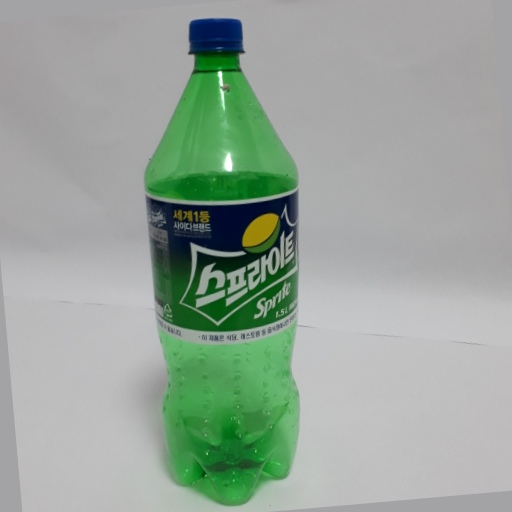Plastic_0: (139, 17, 310, 508)
